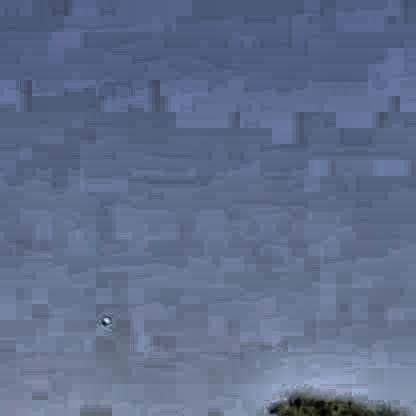golfball: (99, 315, 107, 322)
